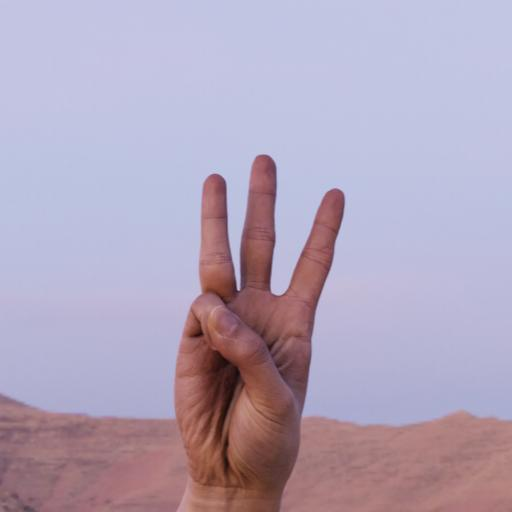W: (158, 142, 362, 498)
